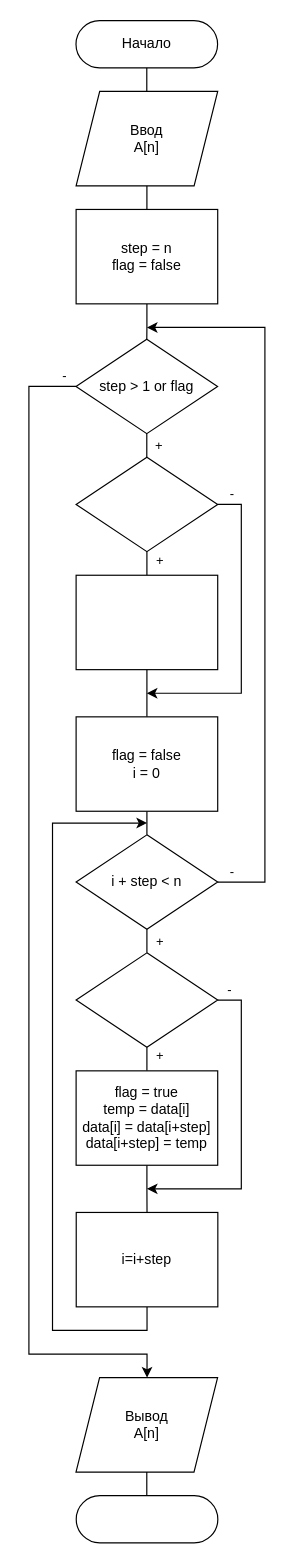
Image size: 295x1563. Some labels were removed from this diagram. The shapes that lost their labels are listed below. From the top down, each one's box as (x1, y1, x2, y2) in pixels, then its label:
(75, 456, 218, 552): step > 1
(75, 574, 218, 670): step = step * 4 / 5
(75, 952, 218, 1047): A[i] > A[i+step]
(75, 1494, 218, 1543): Конец
